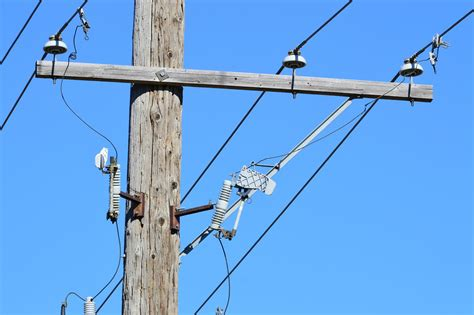pole: (28, 1, 285, 315)
